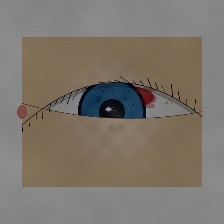hemorrhage_spot: (88, 67, 164, 128)
